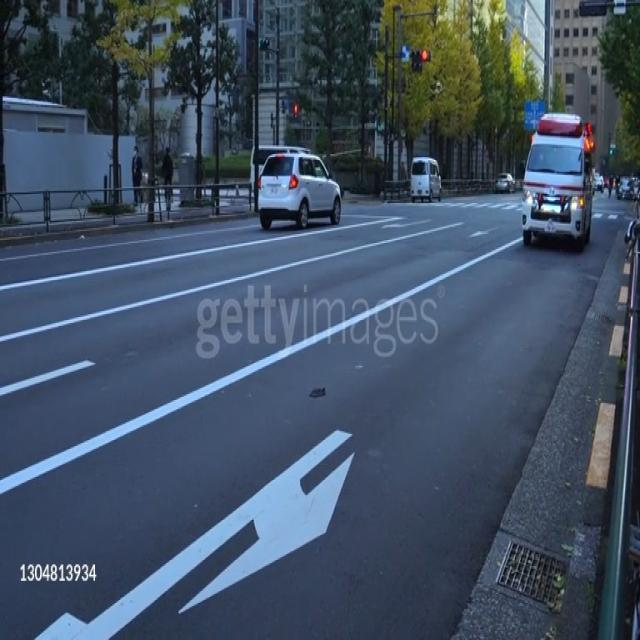emergency: (521, 100, 595, 252)
